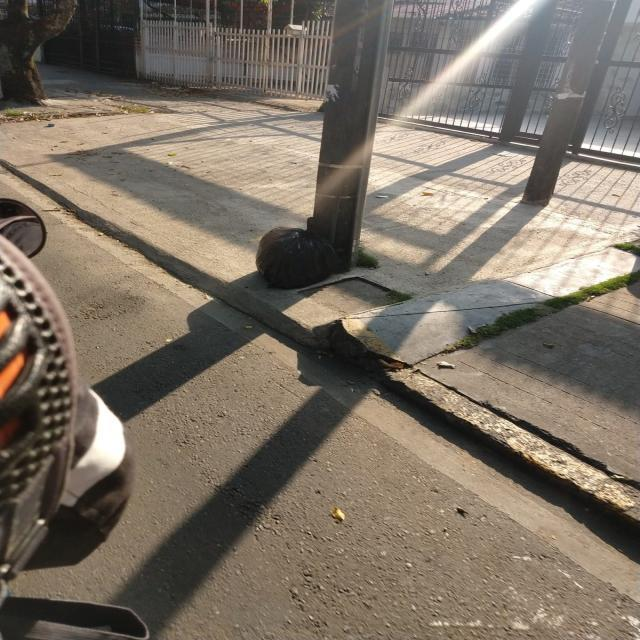Trashbag: (254, 225, 339, 287)
